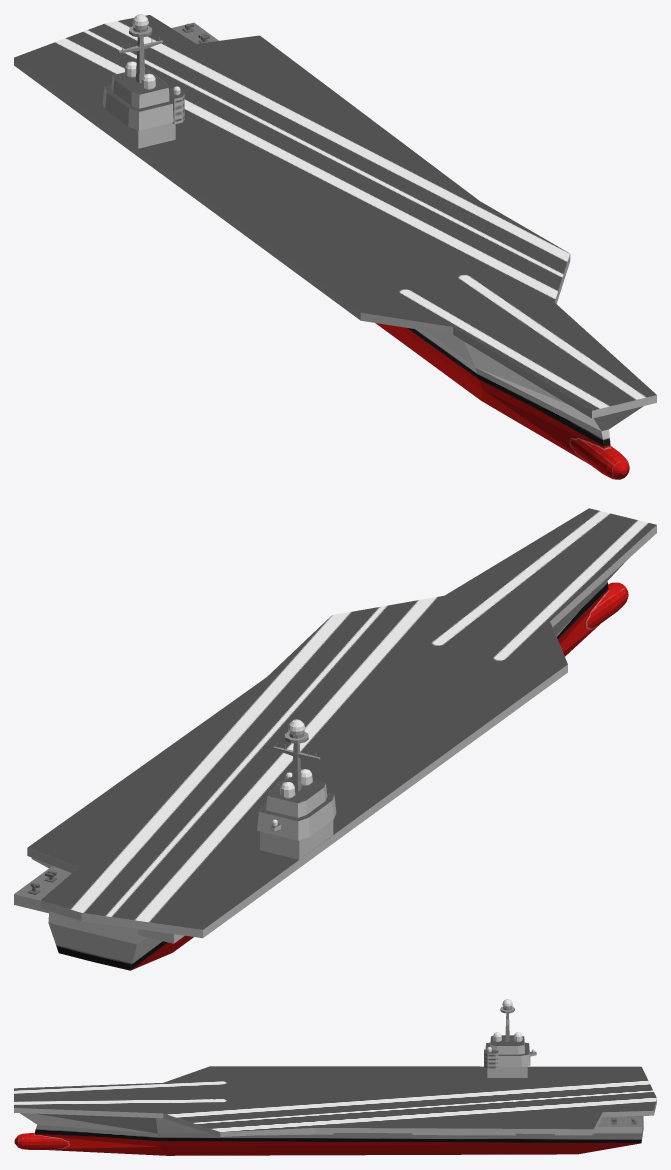
File: S10_klein.fbx
The picture shows the model from 3 angles, top to bottom: view 1: azimuth 30°, elevation 25°; view 2: azimuth 150°, elevation 25°; view 3: azimuth 270°, elevation 25°; orthographic projection. The views are drawn at different scales.
Parts seen in each view (by area): view 1: Cube, Cube.001, Cube.002; view 2: Cube, Cube.001, Cube.002; view 3: Cube, Cube.001, Cube.002.
Part boxes in pixels (<box>): Cube: <box>14,15,656,418</box>; Cube.001: <box>171,22,643,479</box>; Cube.002: <box>102,14,184,148</box>; Cube: <box>27,508,656,938</box>; Cube.001: <box>14,559,628,970</box>; Cube.002: <box>257,719,336,859</box>; Cube: <box>14,1066,656,1136</box>; Cube.001: <box>14,1113,643,1155</box>; Cube.002: <box>484,999,536,1077</box>.
Size of the model in its own units: 0.0752 by 0.0652 by 0.3045.
Materials: 2 (1 with a texture image).
